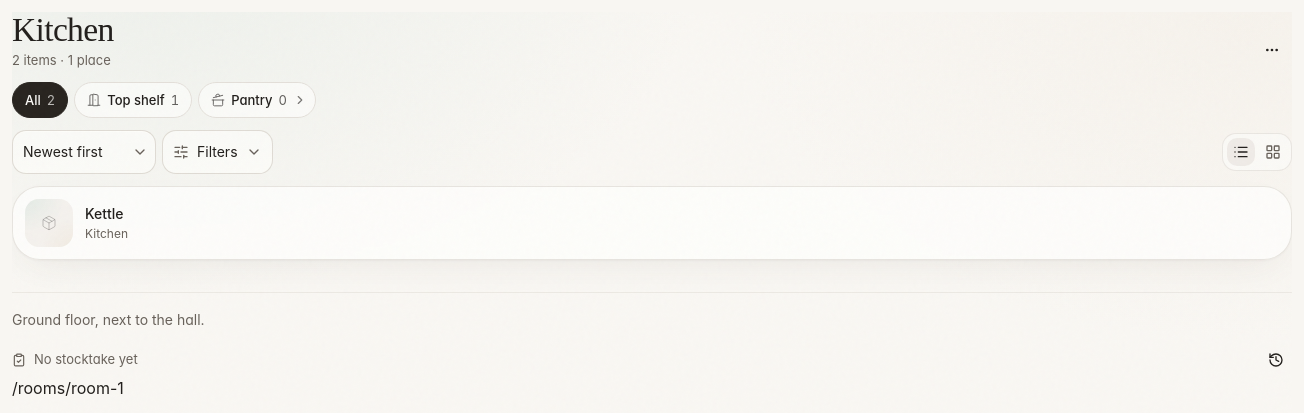
Test: RoomDetailPage › gives viewers the list and read-only menu entries, without changes
Expected: the link "Kettle Kitchen" is shown, [25,199,128,247]
Click the button named "Room options": [1272, 50] box [1252,30,1292,70]
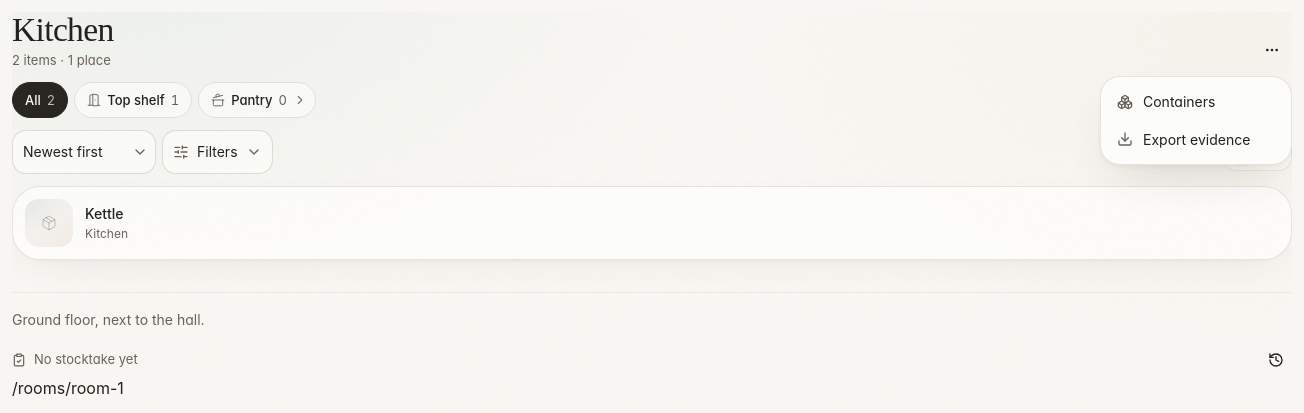
Expected: the menu item "Export evidence" is shown, [1117,131,1250,148]
